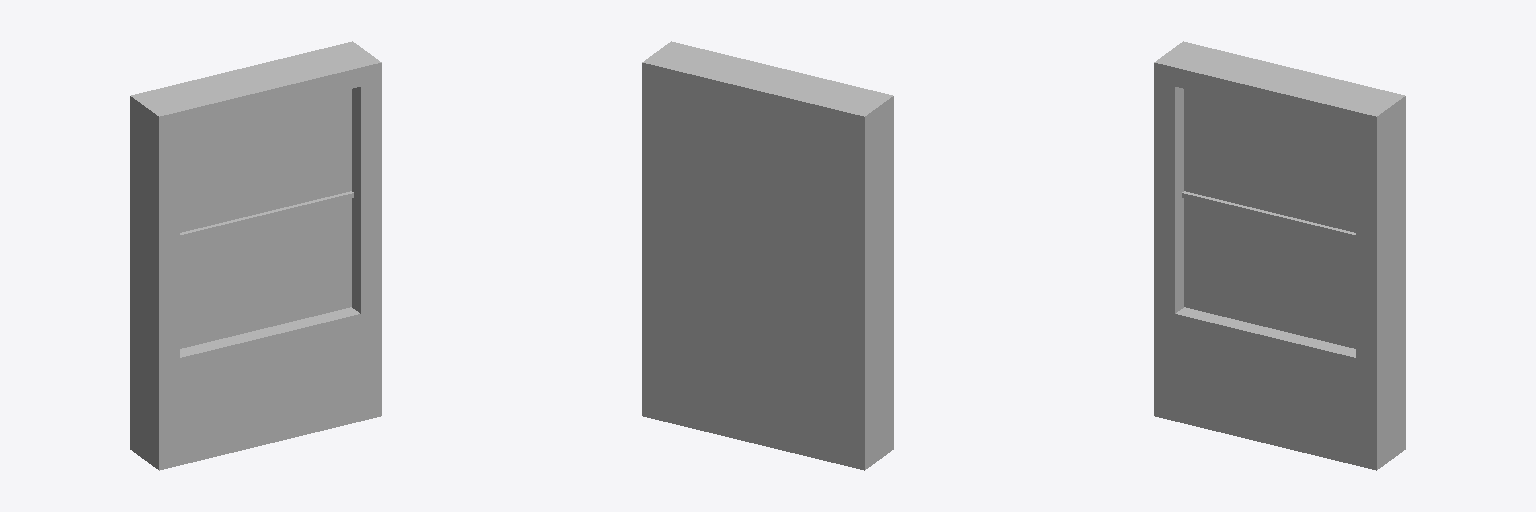
Rendered from Window.obj.
3 renders of one model, left to right at view 1: azimuth 30°, elevation 25°; view 2: azimuth 150°, elevation 25°; view 3: azimuth 330°, elevation 25°, orthographic.
Parts seen in each view (by area): view 1: pCube2; view 2: pCube2; view 3: pCube2.
Part boxes in pixels (x1,y1,x2,y2): pCube2: (130, 41, 381, 470); pCube2: (642, 41, 893, 470); pCube2: (1154, 41, 1405, 470).
Bounding box in the file's own units: 24.78 × 37.63 × 5.56.